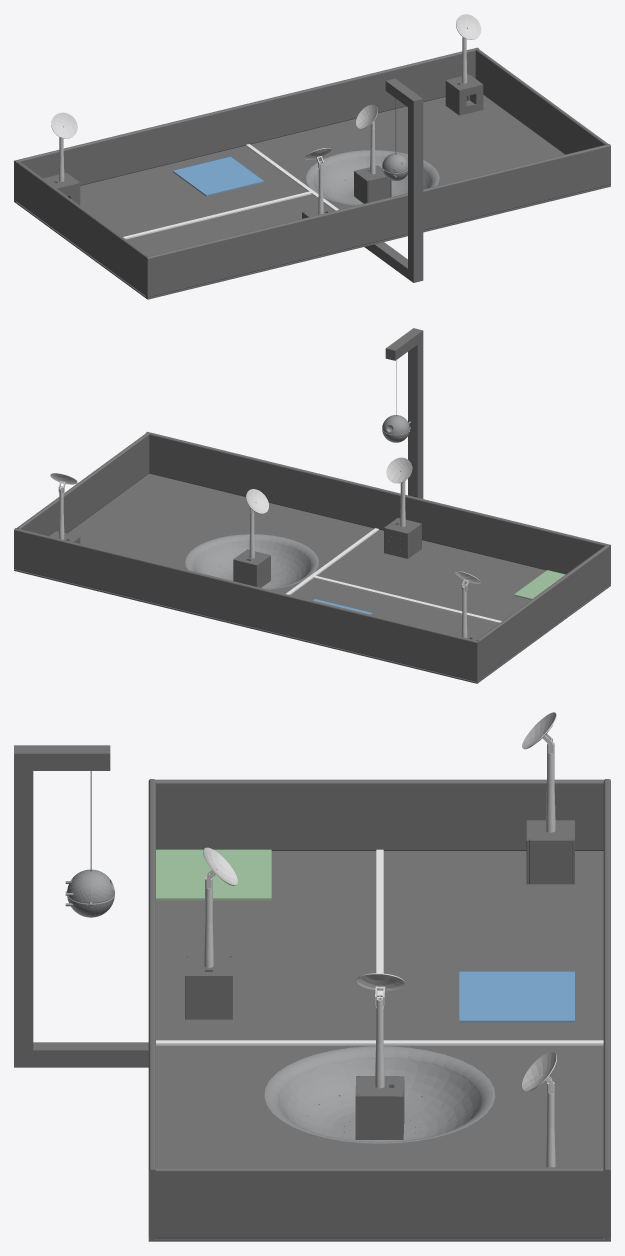
File: field.dae
3 renders of one model, top to bottom at view 1: azimuth 30°, elevation 25°; view 2: azimuth 150°, elevation 25°; view 3: azimuth 270°, elevation 25°, orthographic. The views are drawn at different scales.
Parts seen in each view (by area): view 1: field; view 2: field; view 3: field.
Part boxes in pixels (x1,y1,x2,y2): field: [14, 14, 610, 299]; field: [14, 328, 610, 683]; field: [14, 712, 610, 1241].
Bounding box in the file's own units: 6.19 × 4 × 2.45.
